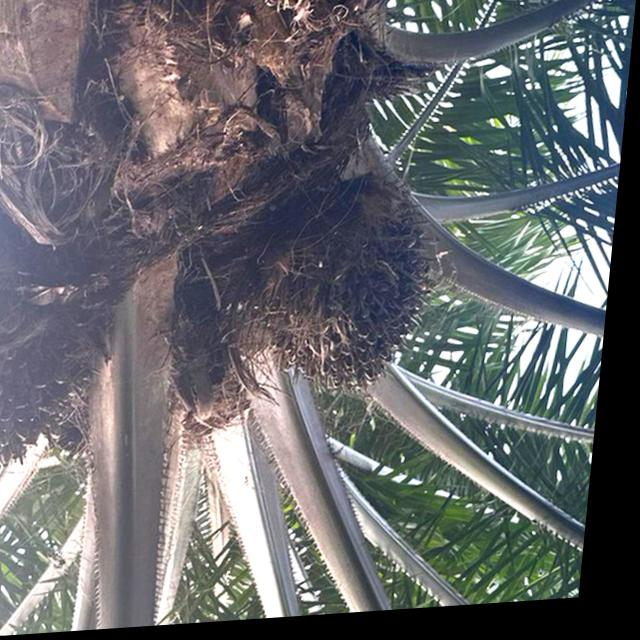unripe: (252, 193, 458, 414)
